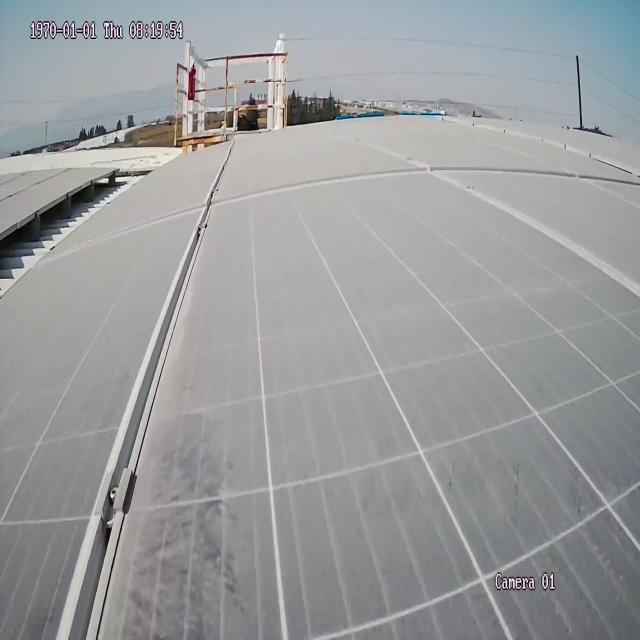interior panel: (34, 129, 640, 640)
outher panel: (0, 164, 159, 321)
